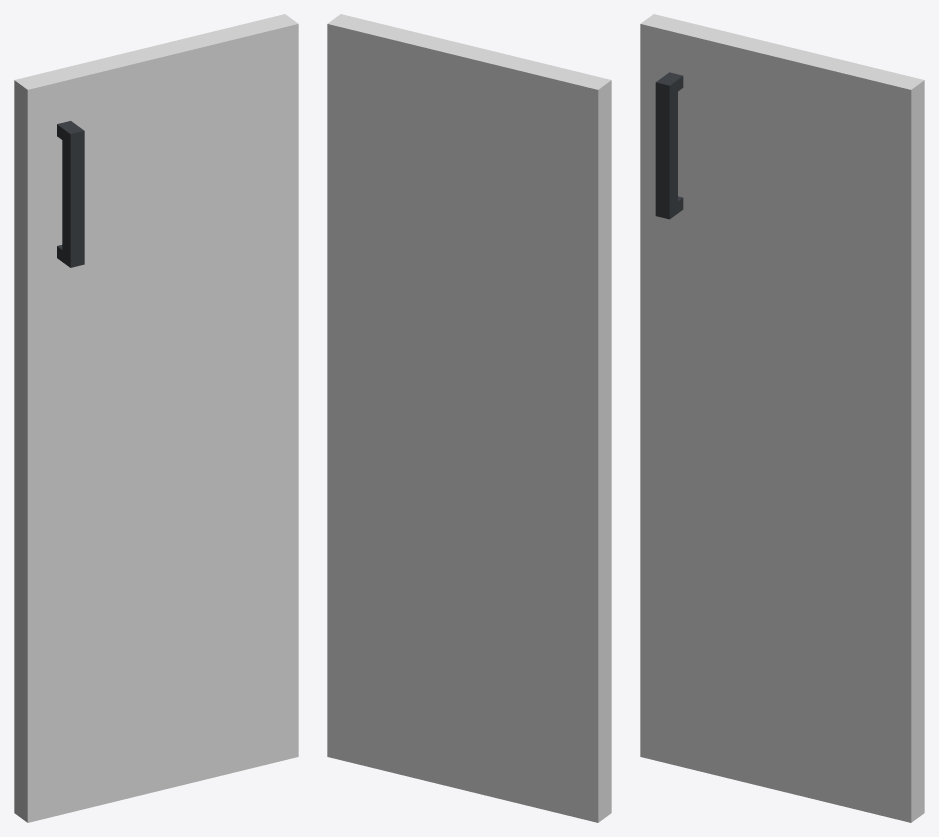
File: Door1_C1_03.fbx
The picture shows the model from 3 angles, left to right: view 1: azimuth 30°, elevation 25°; view 2: azimuth 150°, elevation 25°; view 3: azimuth 330°, elevation 25°; orthographic projection.
Visible parts, largest first — view 1: Door1_C1_03; view 2: Door1_C1_03; view 3: Door1_C1_03.
Boxes of the visible parts, x1,y1,x2,y2 form: Door1_C1_03: [14, 14, 298, 822]; Door1_C1_03: [327, 14, 611, 822]; Door1_C1_03: [640, 14, 924, 822].
Size of the model in its own units: 29 by 75 by 5.03.
